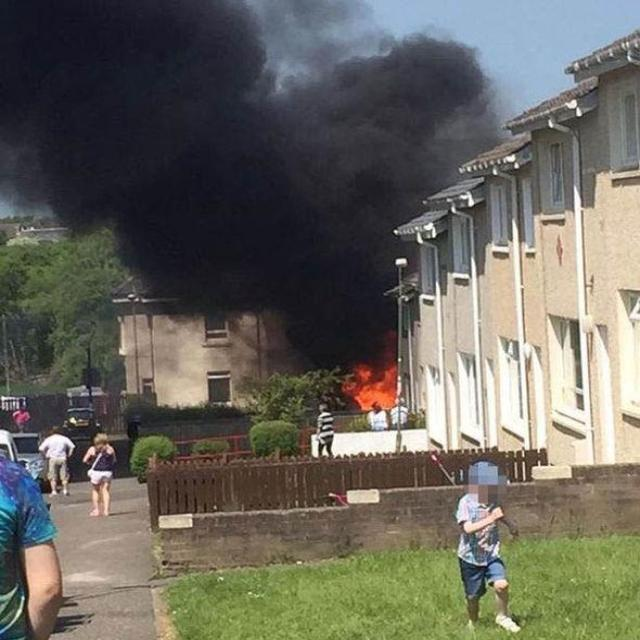Fire: (342, 356, 428, 425)
Smoke: (2, 3, 408, 340), (410, 32, 500, 201)
